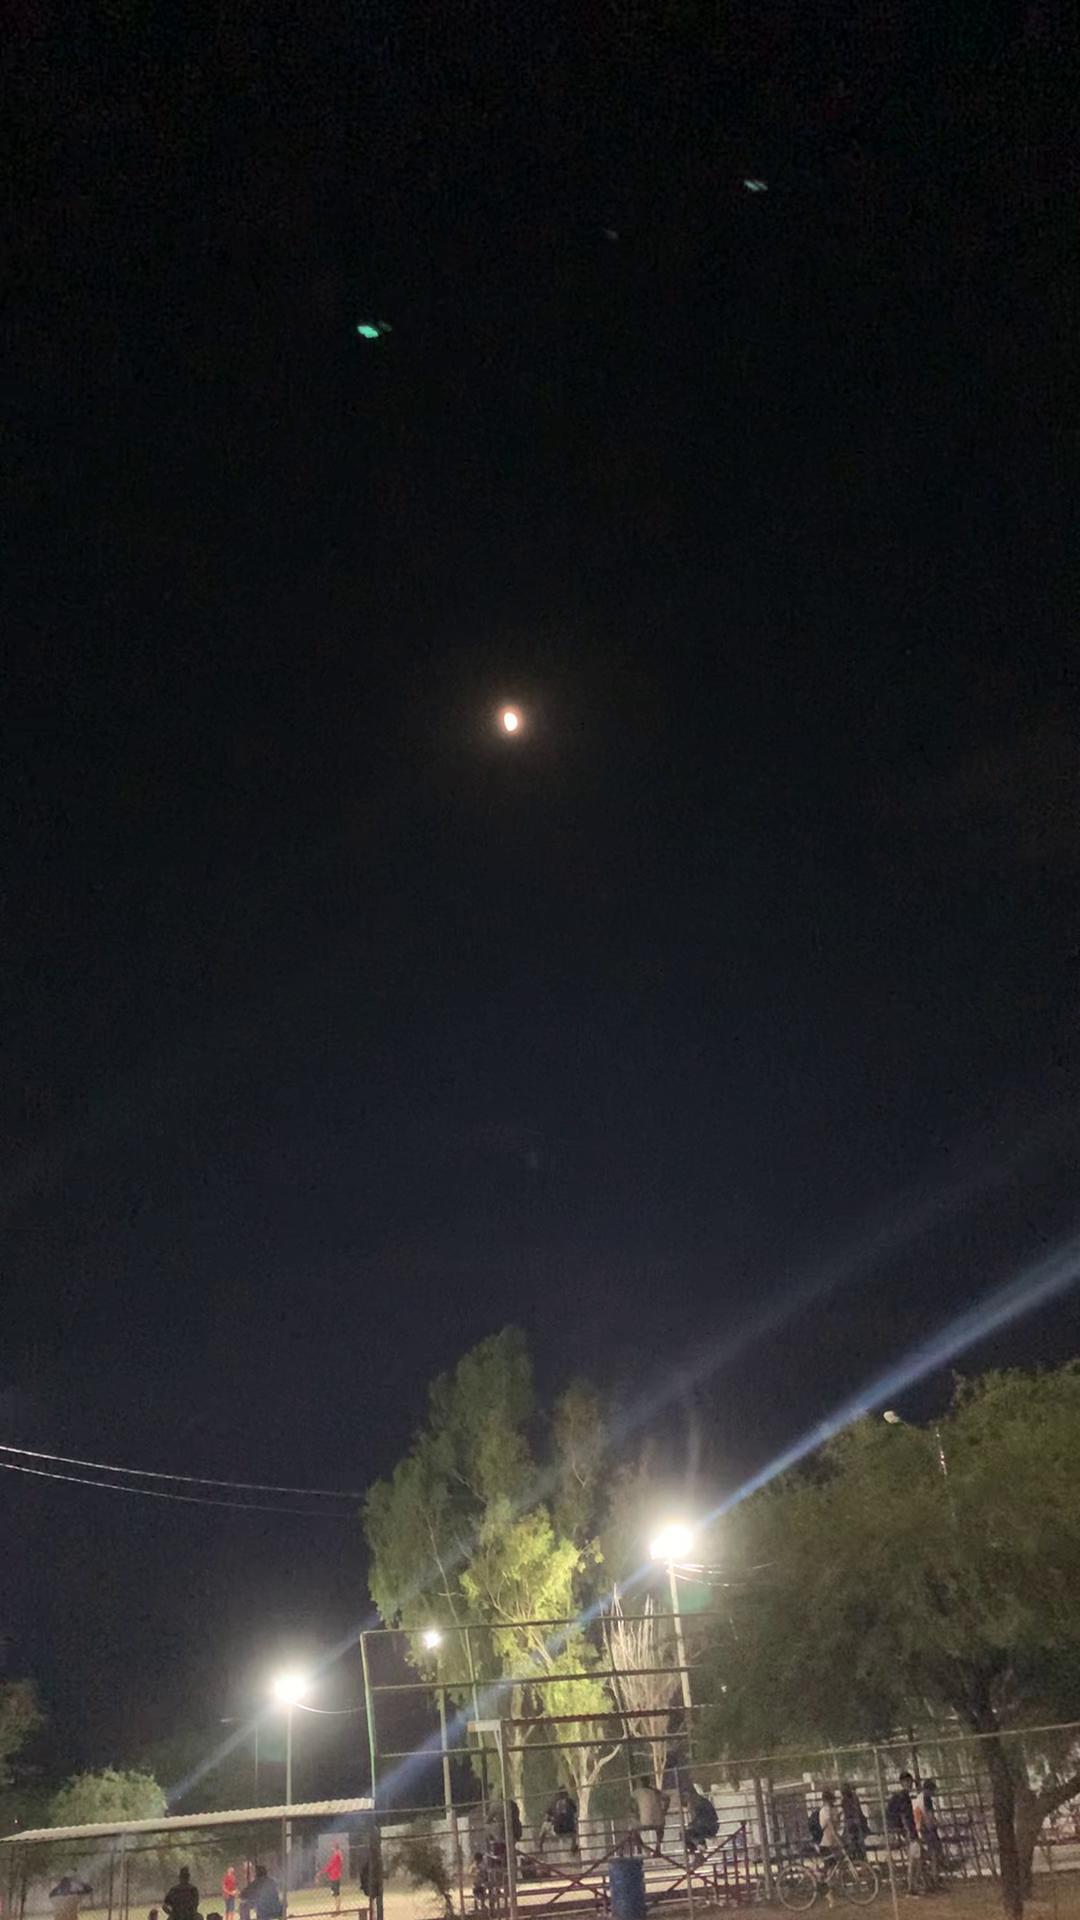moon: (483, 686, 545, 761)
